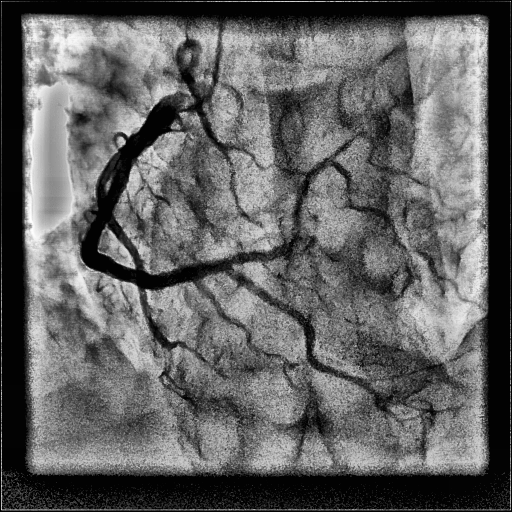pborca: (222, 154, 338, 266)
pda: (222, 267, 394, 416)
rca: (80, 92, 223, 289)
